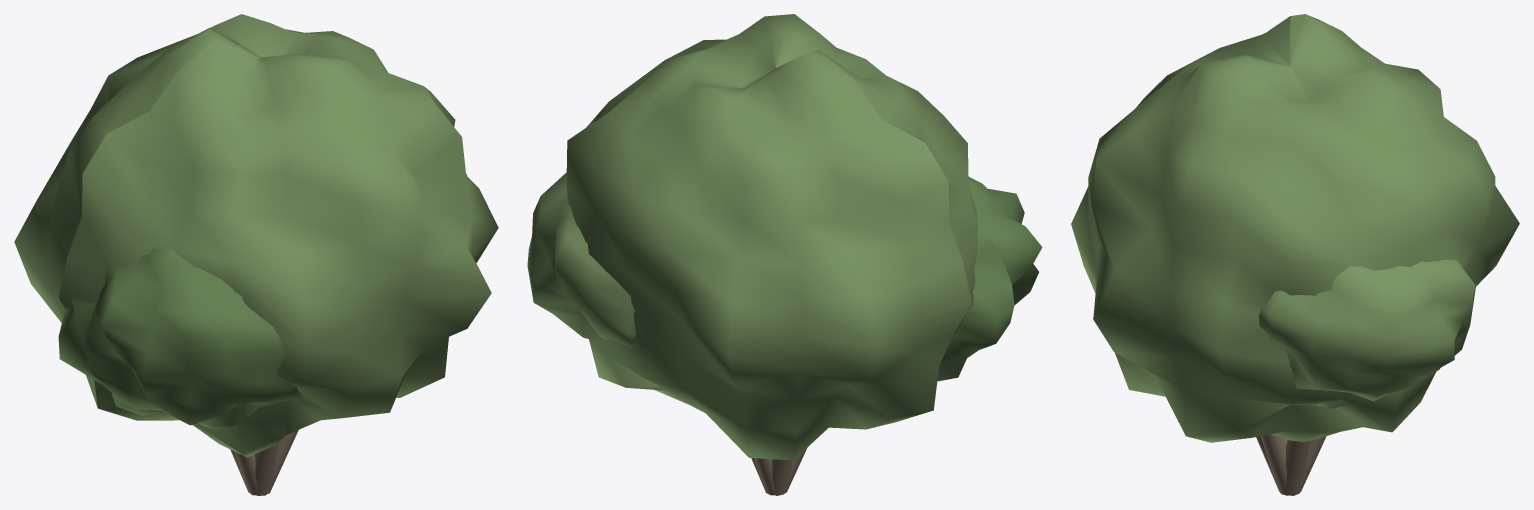
Rendered from josta.glb.
3 views of the same model, side by side, from view 1: azimuth 30°, elevation 25°; view 2: azimuth 150°, elevation 25°; view 3: azimuth 270°, elevation 25° (orthographic). The views are drawn at different scales.
Visible parts, largest first — view 1: lomb-1, lomb-2, vesszo-2, vesszo-3, vesszo-1; view 2: lomb-1, lomb-3, lomb-2, vesszo-4; view 3: lomb-1, lomb-3, vesszo-6, vesszo-1.
Boxes of the visible parts, left/top/right/bottom form: lomb-1: left=14, top=14, right=498, bottom=457; lomb-2: left=58, top=248, right=302, bottom=428; vesszo-2: left=255, top=443, right=278, bottom=495; vesszo-3: left=234, top=451, right=259, bottom=495; vesszo-1: left=267, top=430, right=298, bottom=493; lomb-1: left=566, top=14, right=978, bottom=460; lomb-3: left=527, top=172, right=635, bottom=347; lomb-2: left=937, top=176, right=1042, bottom=381; vesszo-4: left=772, top=459, right=792, bottom=495; lomb-1: left=1071, top=14, right=1519, bottom=442; lomb-3: left=1259, top=259, right=1475, bottom=408; vesszo-6: left=1285, top=440, right=1309, bottom=495; vesszo-1: left=1260, top=434, right=1289, bottom=495.
Bounding box in the file's own units: 1.81 × 1.89 × 1.68.
